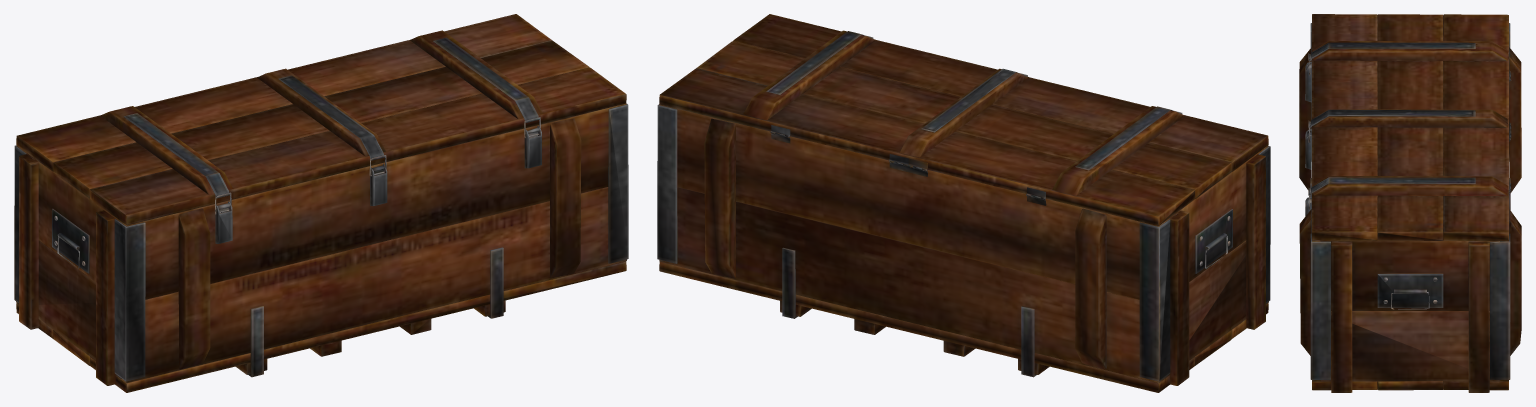
The model's file is wooden_military_crate.glb.
3 renders of one model, left to right at view 1: azimuth 30°, elevation 25°; view 2: azimuth 150°, elevation 25°; view 3: azimuth 270°, elevation 25°, orthographic. The views are drawn at different scales.
Parts seen in each view (by area): view 1: wooden_military_crate, wooden_military_crate_lid; view 2: wooden_military_crate, wooden_military_crate_lid; view 3: wooden_military_crate_lid, wooden_military_crate.
Boxes of the visible parts, x1,y1,x2,y2 form: wooden_military_crate: [14, 103, 628, 392]; wooden_military_crate_lid: [16, 14, 626, 225]; wooden_military_crate: [657, 104, 1270, 392]; wooden_military_crate_lid: [659, 14, 1268, 225]; wooden_military_crate_lid: [1308, 14, 1511, 240]; wooden_military_crate: [1299, 23, 1521, 392].
Bounding box in the file's own units: 1.24 × 0.4646 × 0.5179.
1 material, 1 textured.
